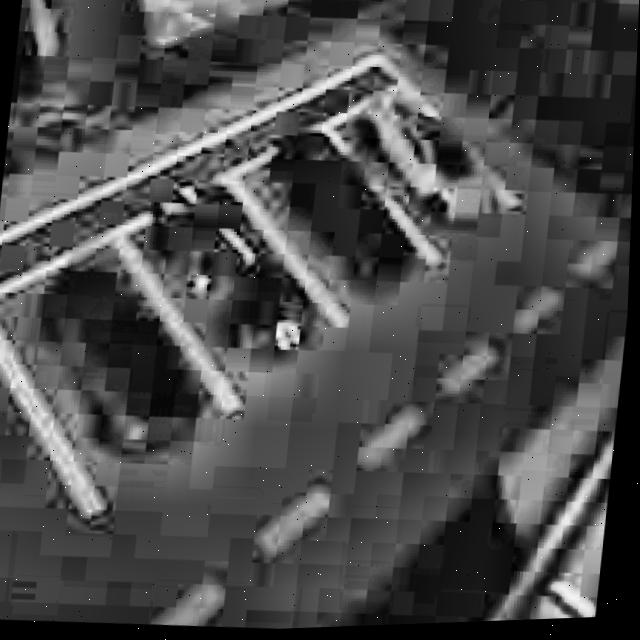car: (17, 242, 225, 475), (131, 161, 339, 384), (250, 109, 432, 310), (341, 83, 518, 249)
